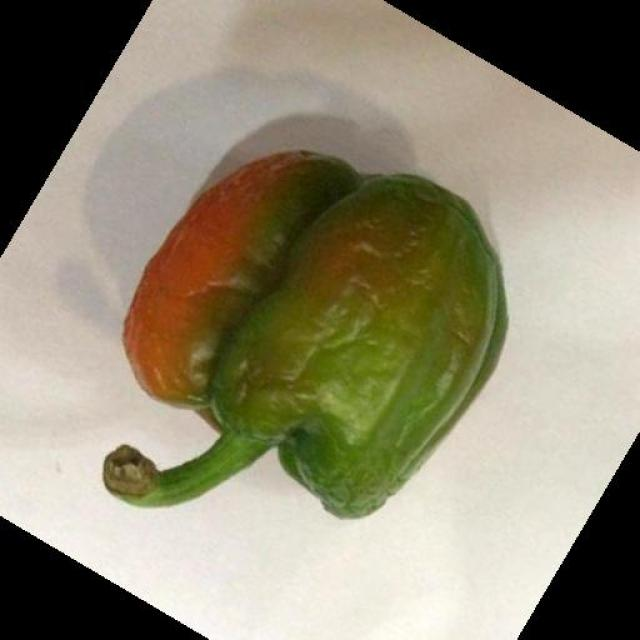Stale_Capsicum: (152, 138, 506, 508)
